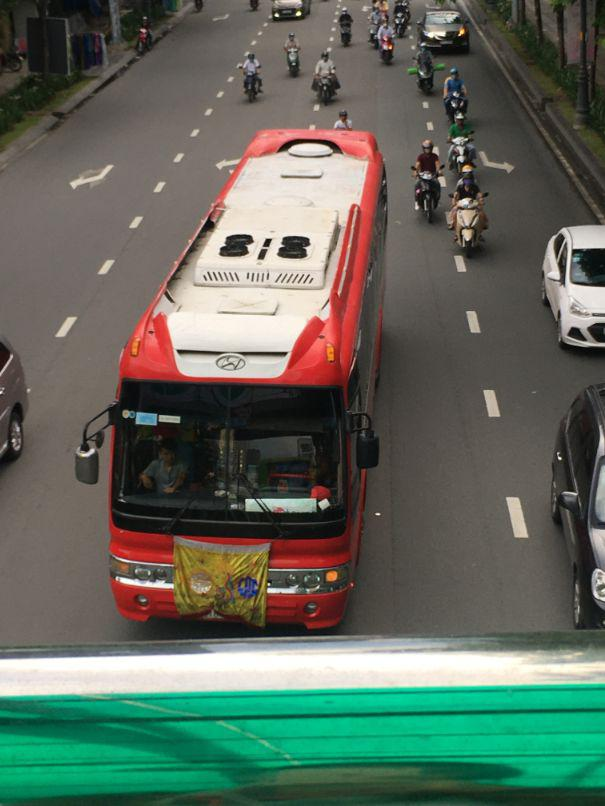bus: (97, 113, 395, 661)
car: (548, 379, 605, 626), (541, 225, 604, 352), (422, 9, 471, 54), (271, 0, 308, 22)
motorbike: (449, 194, 490, 260), (415, 175, 442, 225), (312, 73, 341, 109), (417, 45, 437, 95), (377, 25, 394, 64), (137, 23, 153, 54)
